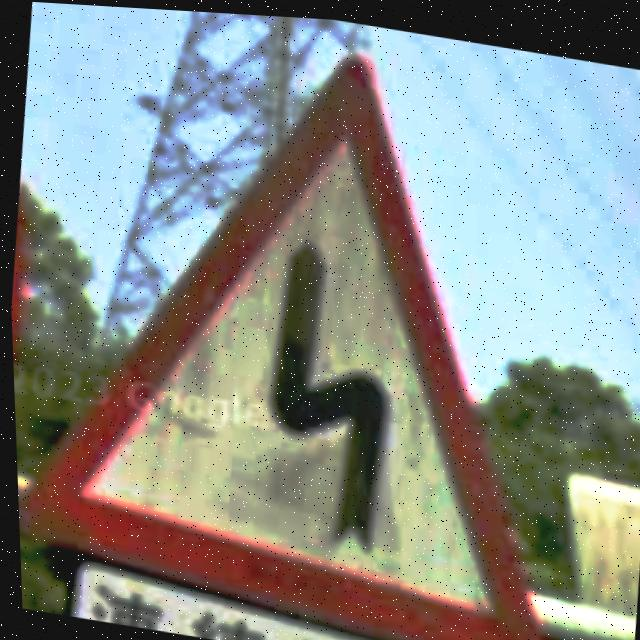doublebendleft: (15, 52, 542, 640)
